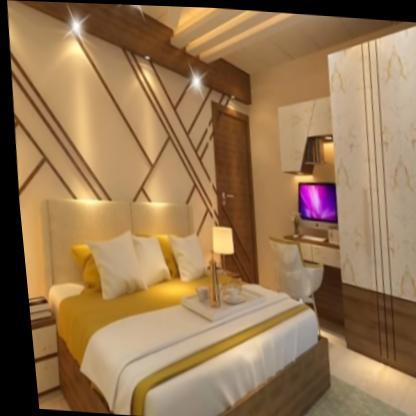Bed: (31, 195, 337, 416)
Closet: (309, 16, 416, 390)
Wall Panel: (0, 0, 276, 307)
